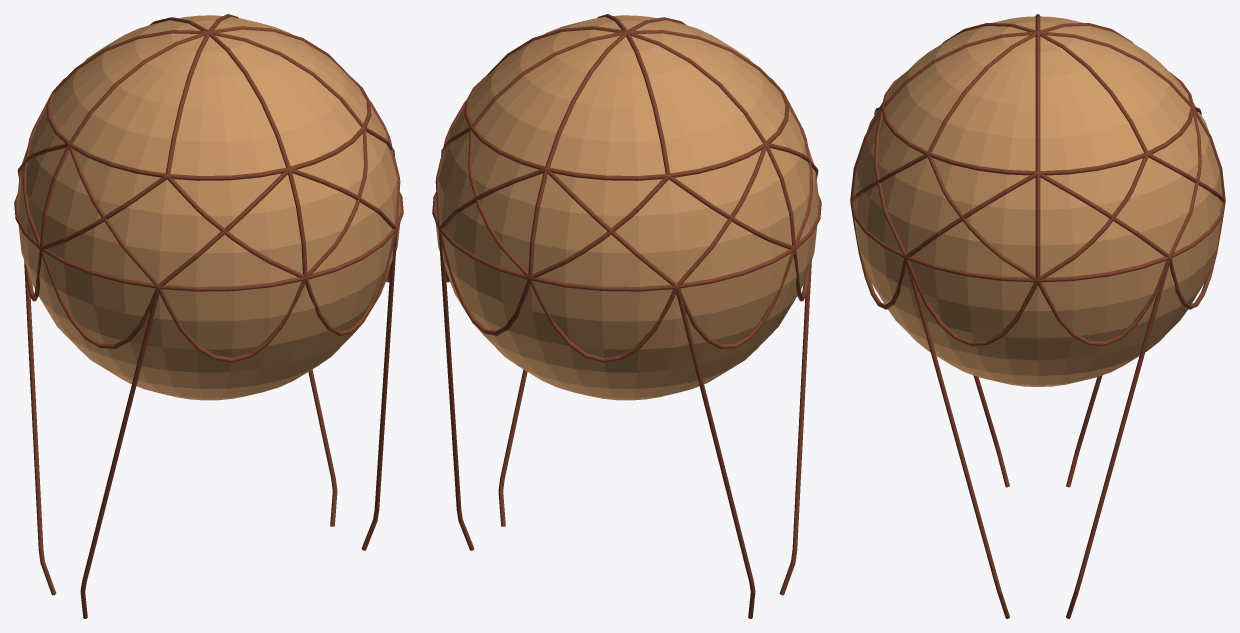
The model's file is SM_Ship_balloon.fbx.
3 views of the same model, side by side, from view 1: azimuth 30°, elevation 25°; view 2: azimuth 150°, elevation 25°; view 3: azimuth 270°, elevation 25° (orthographic). The views are drawn at different scales.
Visible parts, largest first — view 1: Sphere, Sphere.001; view 2: Sphere, Sphere.001; view 3: Sphere, Sphere.001.
Part boxes in pixels (x1,y1,x2,y2): Sphere: (17,15,400,400); Sphere.001: (14,14,403,618); Sphere: (435,15,818,400); Sphere.001: (432,14,821,618); Sphere: (853,16,1222,386); Sphere.001: (850,14,1225,618).
Bounding box in the file's own units: 2429 × 3720 × 2429.
